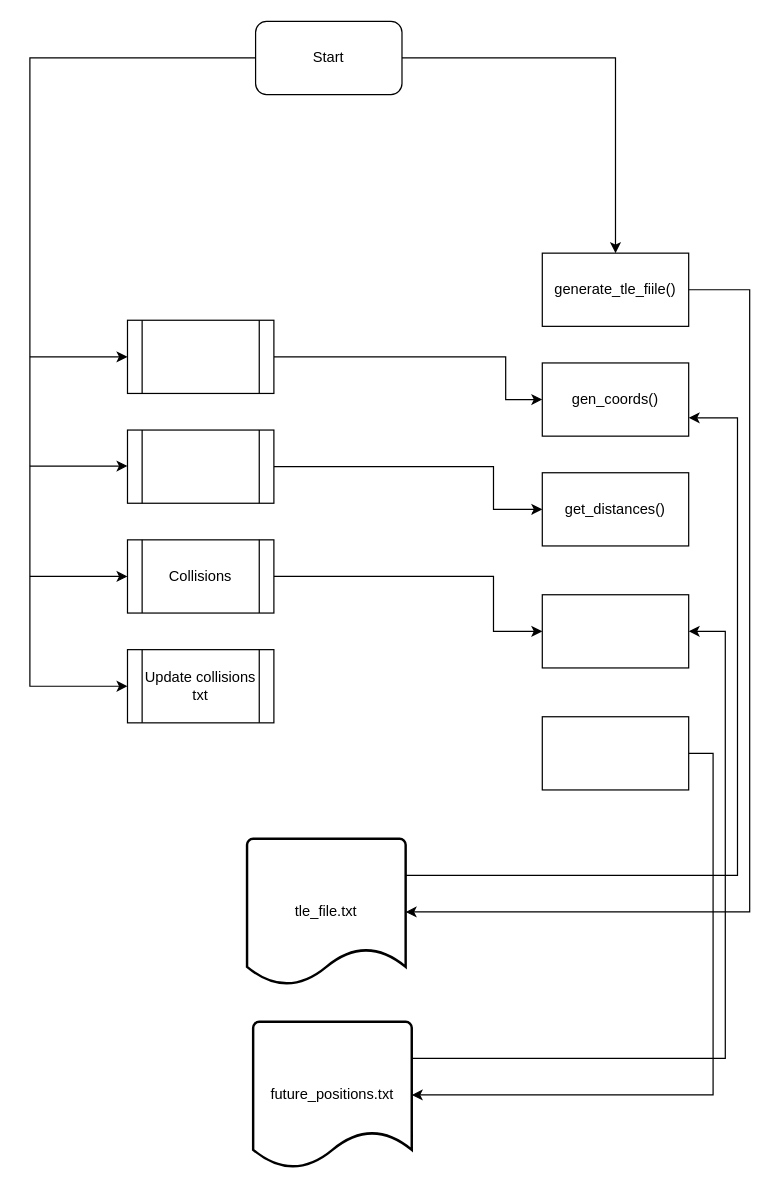
This 781x1191 diagram has some shape labels left out. Here are the shapes that lost their labels. From the top down, the centre of each, then its label:
At (200,356): "Coordinates".
At (200,466): "Distance".
At (615,631): "check_risk()".
At (615,753): "gen_future_pos()".
